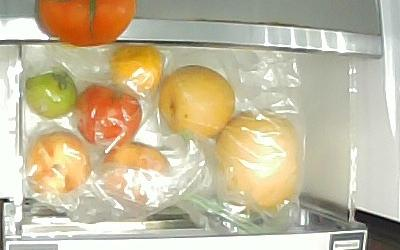peach_vinyl: (100, 140, 172, 204), (24, 128, 91, 194)
pear_vinyl: (213, 107, 300, 208), (157, 63, 235, 138)
tangerine_vinyl: (108, 43, 165, 95)
tomato_vinyl: (75, 86, 143, 145), (23, 71, 76, 119)
